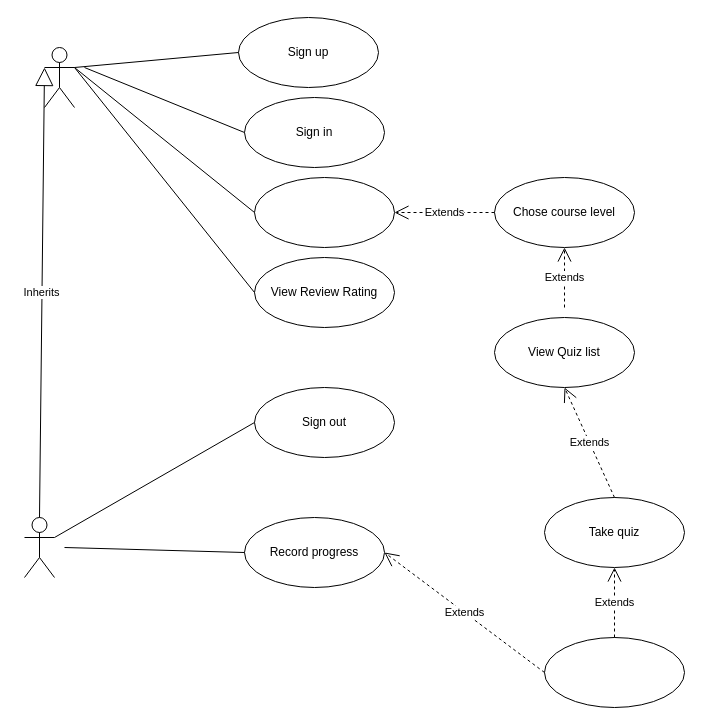
The diagram is 702 pixels wide and 725 high, and some of its shapes have lost their labels. The centre of each missing label's shape, as x and y in pixels:
"Member" goes at point (39, 547).
"View course level" goes at point (324, 212).
"View quiz results" goes at point (614, 672).
"Visitor" goes at point (59, 77).
